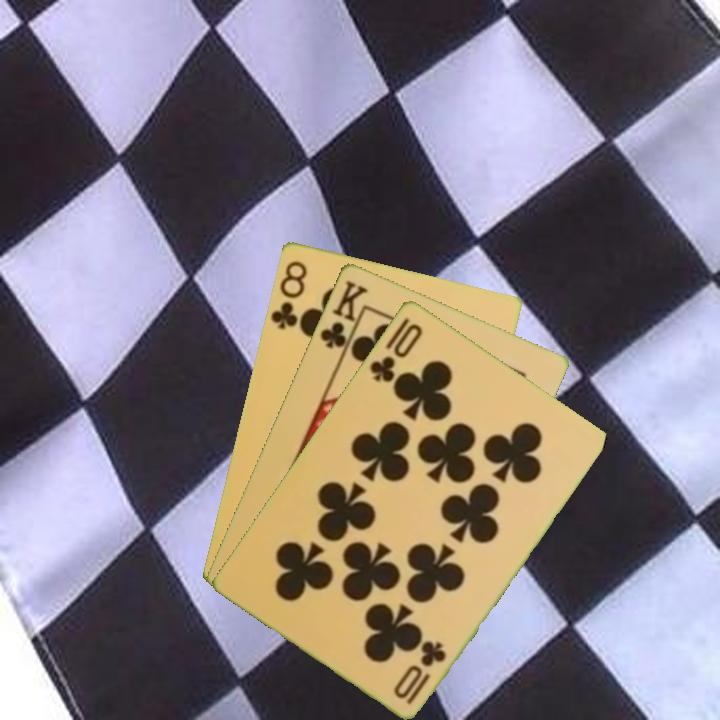10c: (390, 636, 450, 708), (366, 319, 425, 385)
8c: (267, 256, 310, 332)
Kc: (316, 275, 370, 360)
